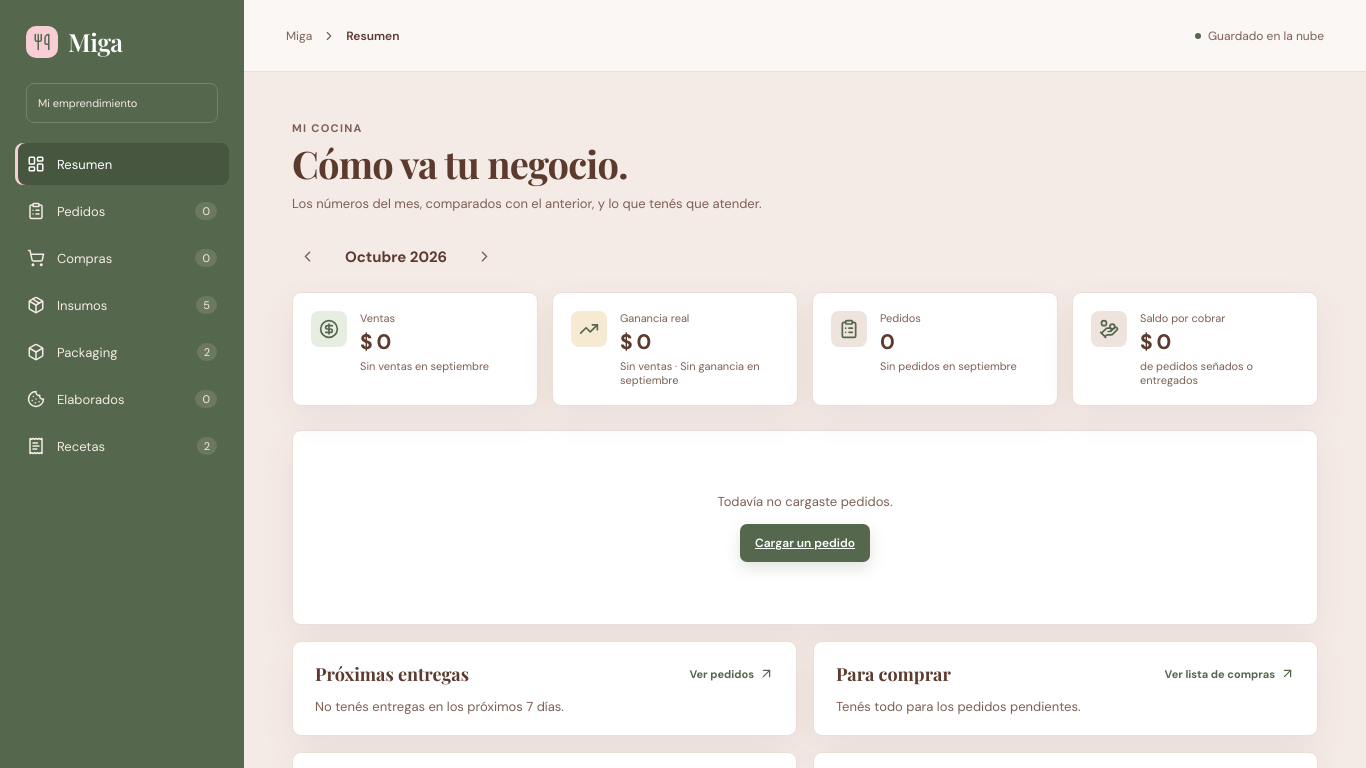
Test: Packaging › has its own view in the sidebar, with the count
The width and height of the screenshot is (1366, 768).
Click the link "Packaging 2".
click(87, 352)  # box [27, 343, 217, 361]
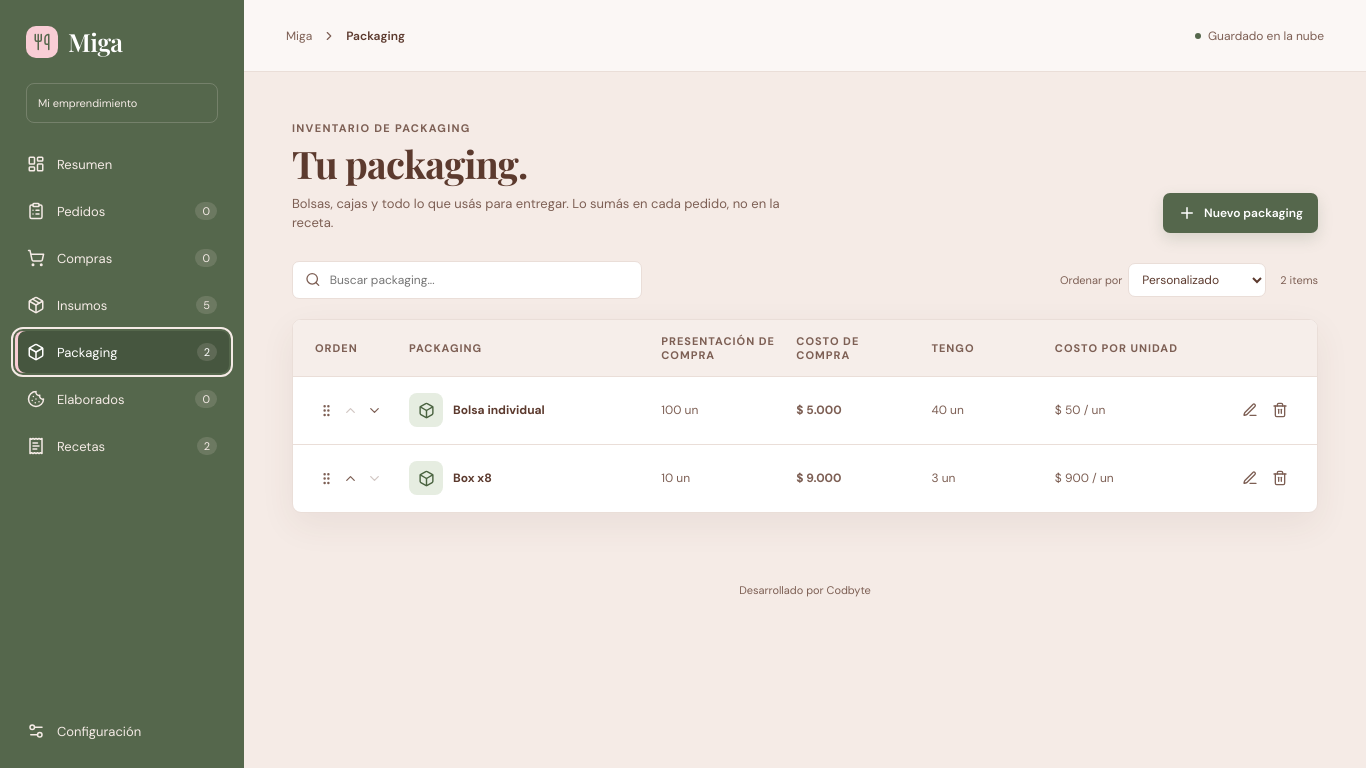
Expected: the heading reads "Tu packaging.", [292, 138, 528, 189]
